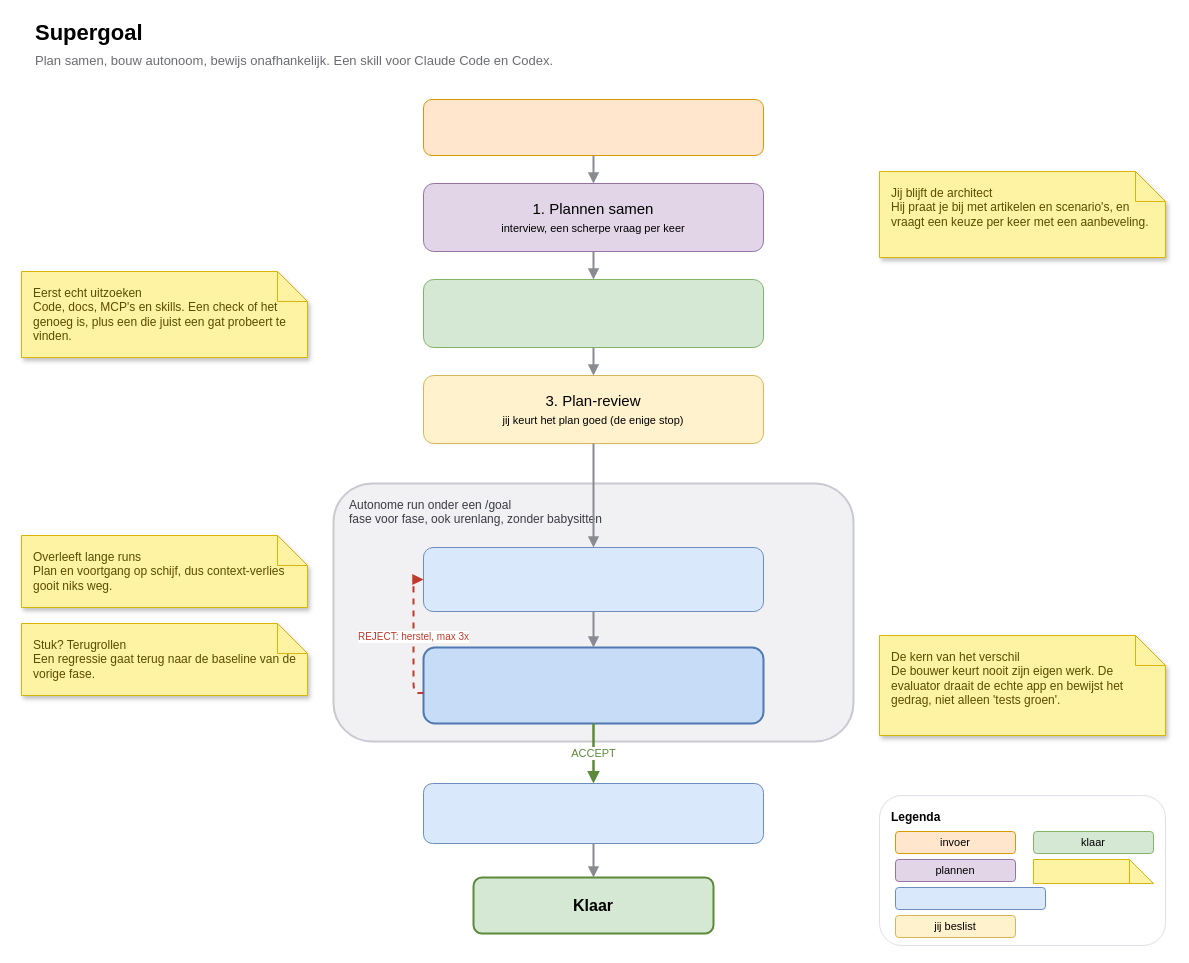
Image size: 1189x963. Some labels were removed from this diagram. The centre of each missing label's shape, as x and y in pixels:
2. Context verzamelen vier bronnen, een check en een tegencheck: (593,313)
bouwen en bewijzen: (970,898)
Eindaudit tegen het plan opnieuw, tegen de oorspronkelijke opdracht: (593,813)
Generator bouwt de fase en levert ruw bewijs op, geen oordeel: (593,579)
Jouw taak: (593,127)
Onafhankelijke evaluator doet elke check zelf opnieuw ACCEPT of REJECT: (593,685)
uitleg (sticky note): (1093,871)
